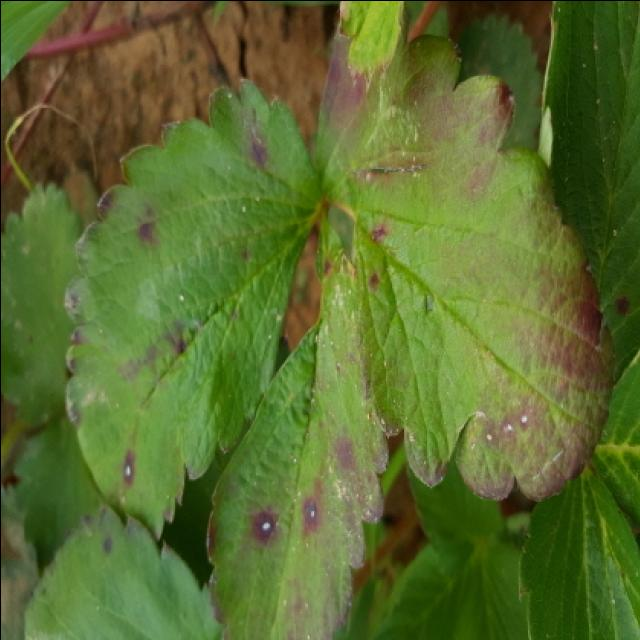Leaf Spot: (312, 2, 616, 503), (61, 78, 323, 545), (206, 209, 394, 640), (24, 501, 222, 640)
